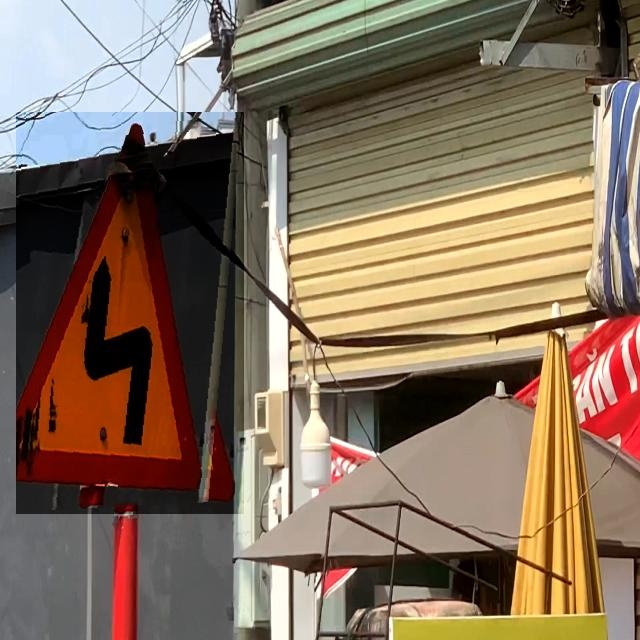bien_nguy_hiem: (16, 112, 244, 514)
